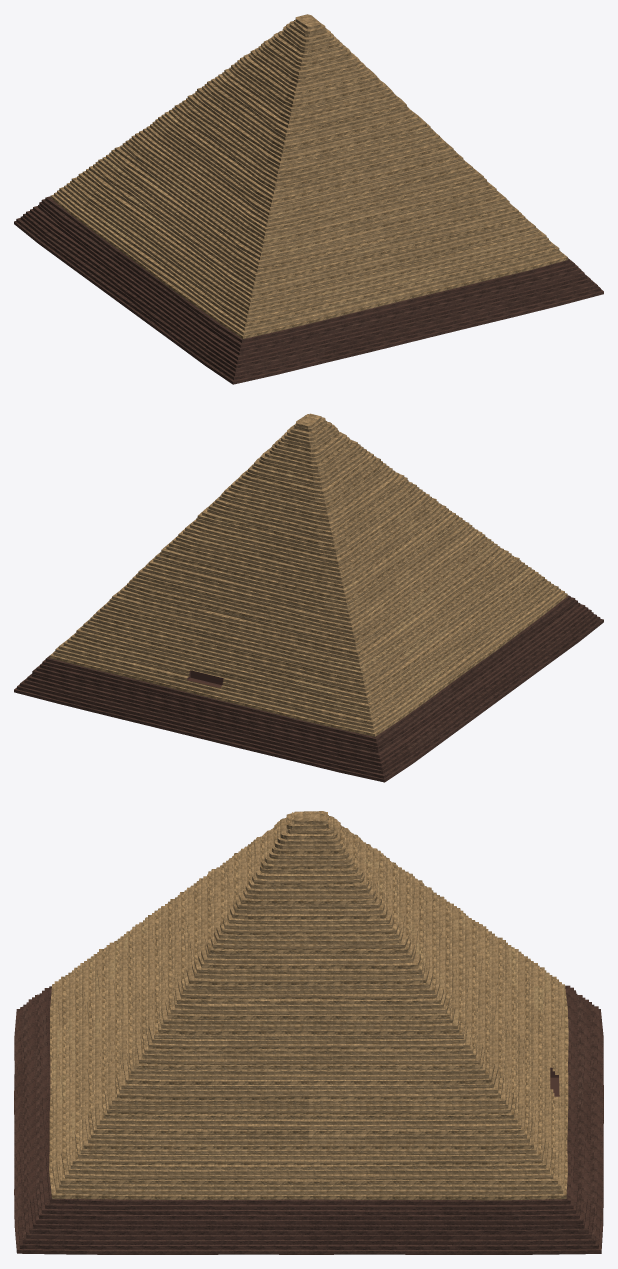
File: giza_menkaure.glb
3 renders of one model, top to bottom at view 1: azimuth 30°, elevation 25°; view 2: azimuth 150°, elevation 25°; view 3: azimuth 270°, elevation 25°, orthographic. The views are drawn at different scales.
Parts seen in each view (by area): view 1: Menkaure; view 2: Menkaure; view 3: Menkaure.
Boxes of the visible parts, x1,y1,x2,y2 form: Menkaure: (14, 14, 603, 384); Menkaure: (14, 413, 603, 782); Menkaure: (14, 811, 603, 1254).
Bounding box in the file's own units: 100 × 60.9 × 103.
2 materials, 2 textured.
